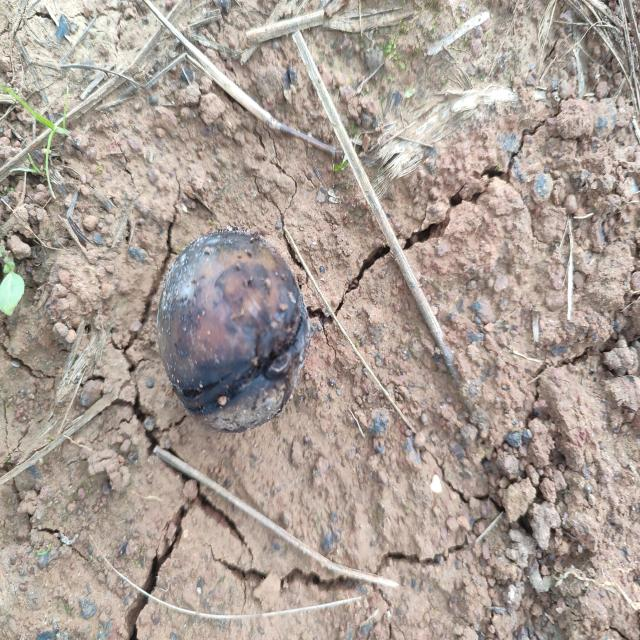damaged: (156, 229, 310, 434)
